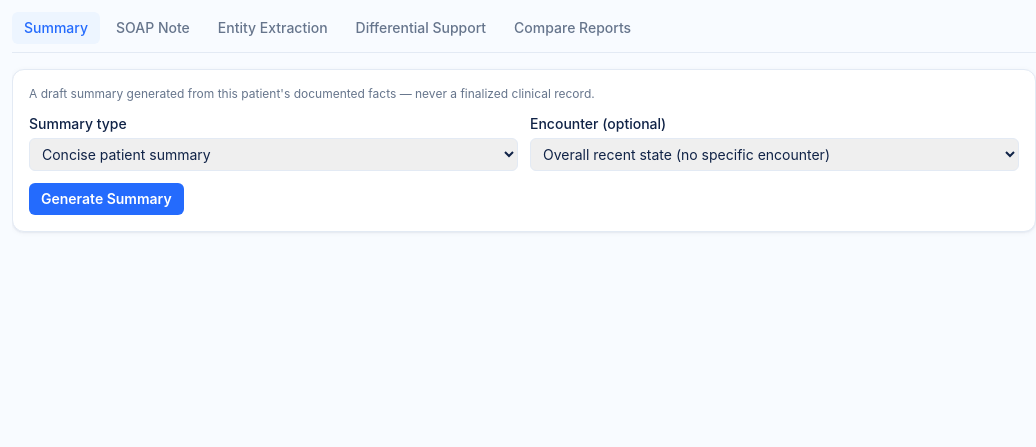
Test: Clinical Modules — patient tab › generates a summary and shows the structured result
Click the button "Generate Summary" at (106, 199), box [29,183,184,215]
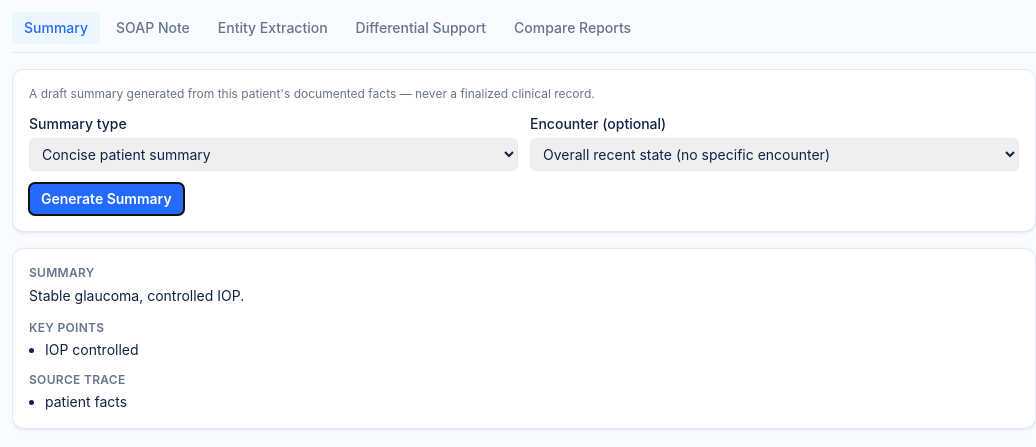
Expected: the text "Stable glaucoma, controlled IOP." is shown, [29,287,244,304]
Expected: the list item "IOP controlled" is shown, [45,341,138,358]
